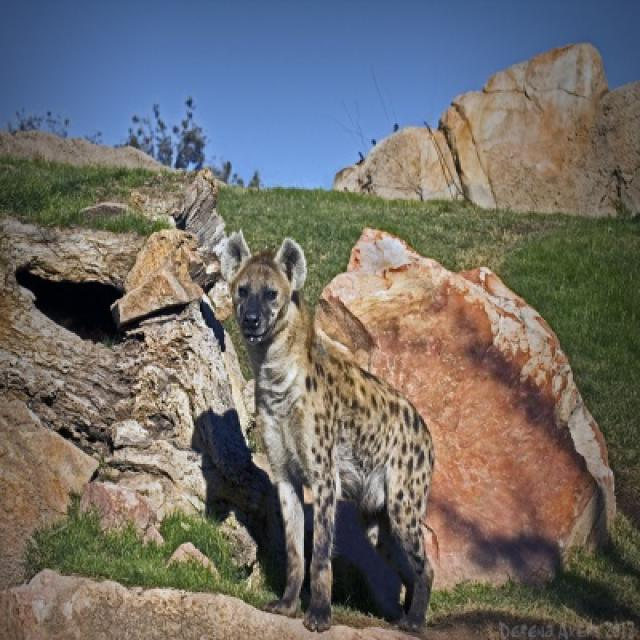hyena: (221, 232, 432, 629)
